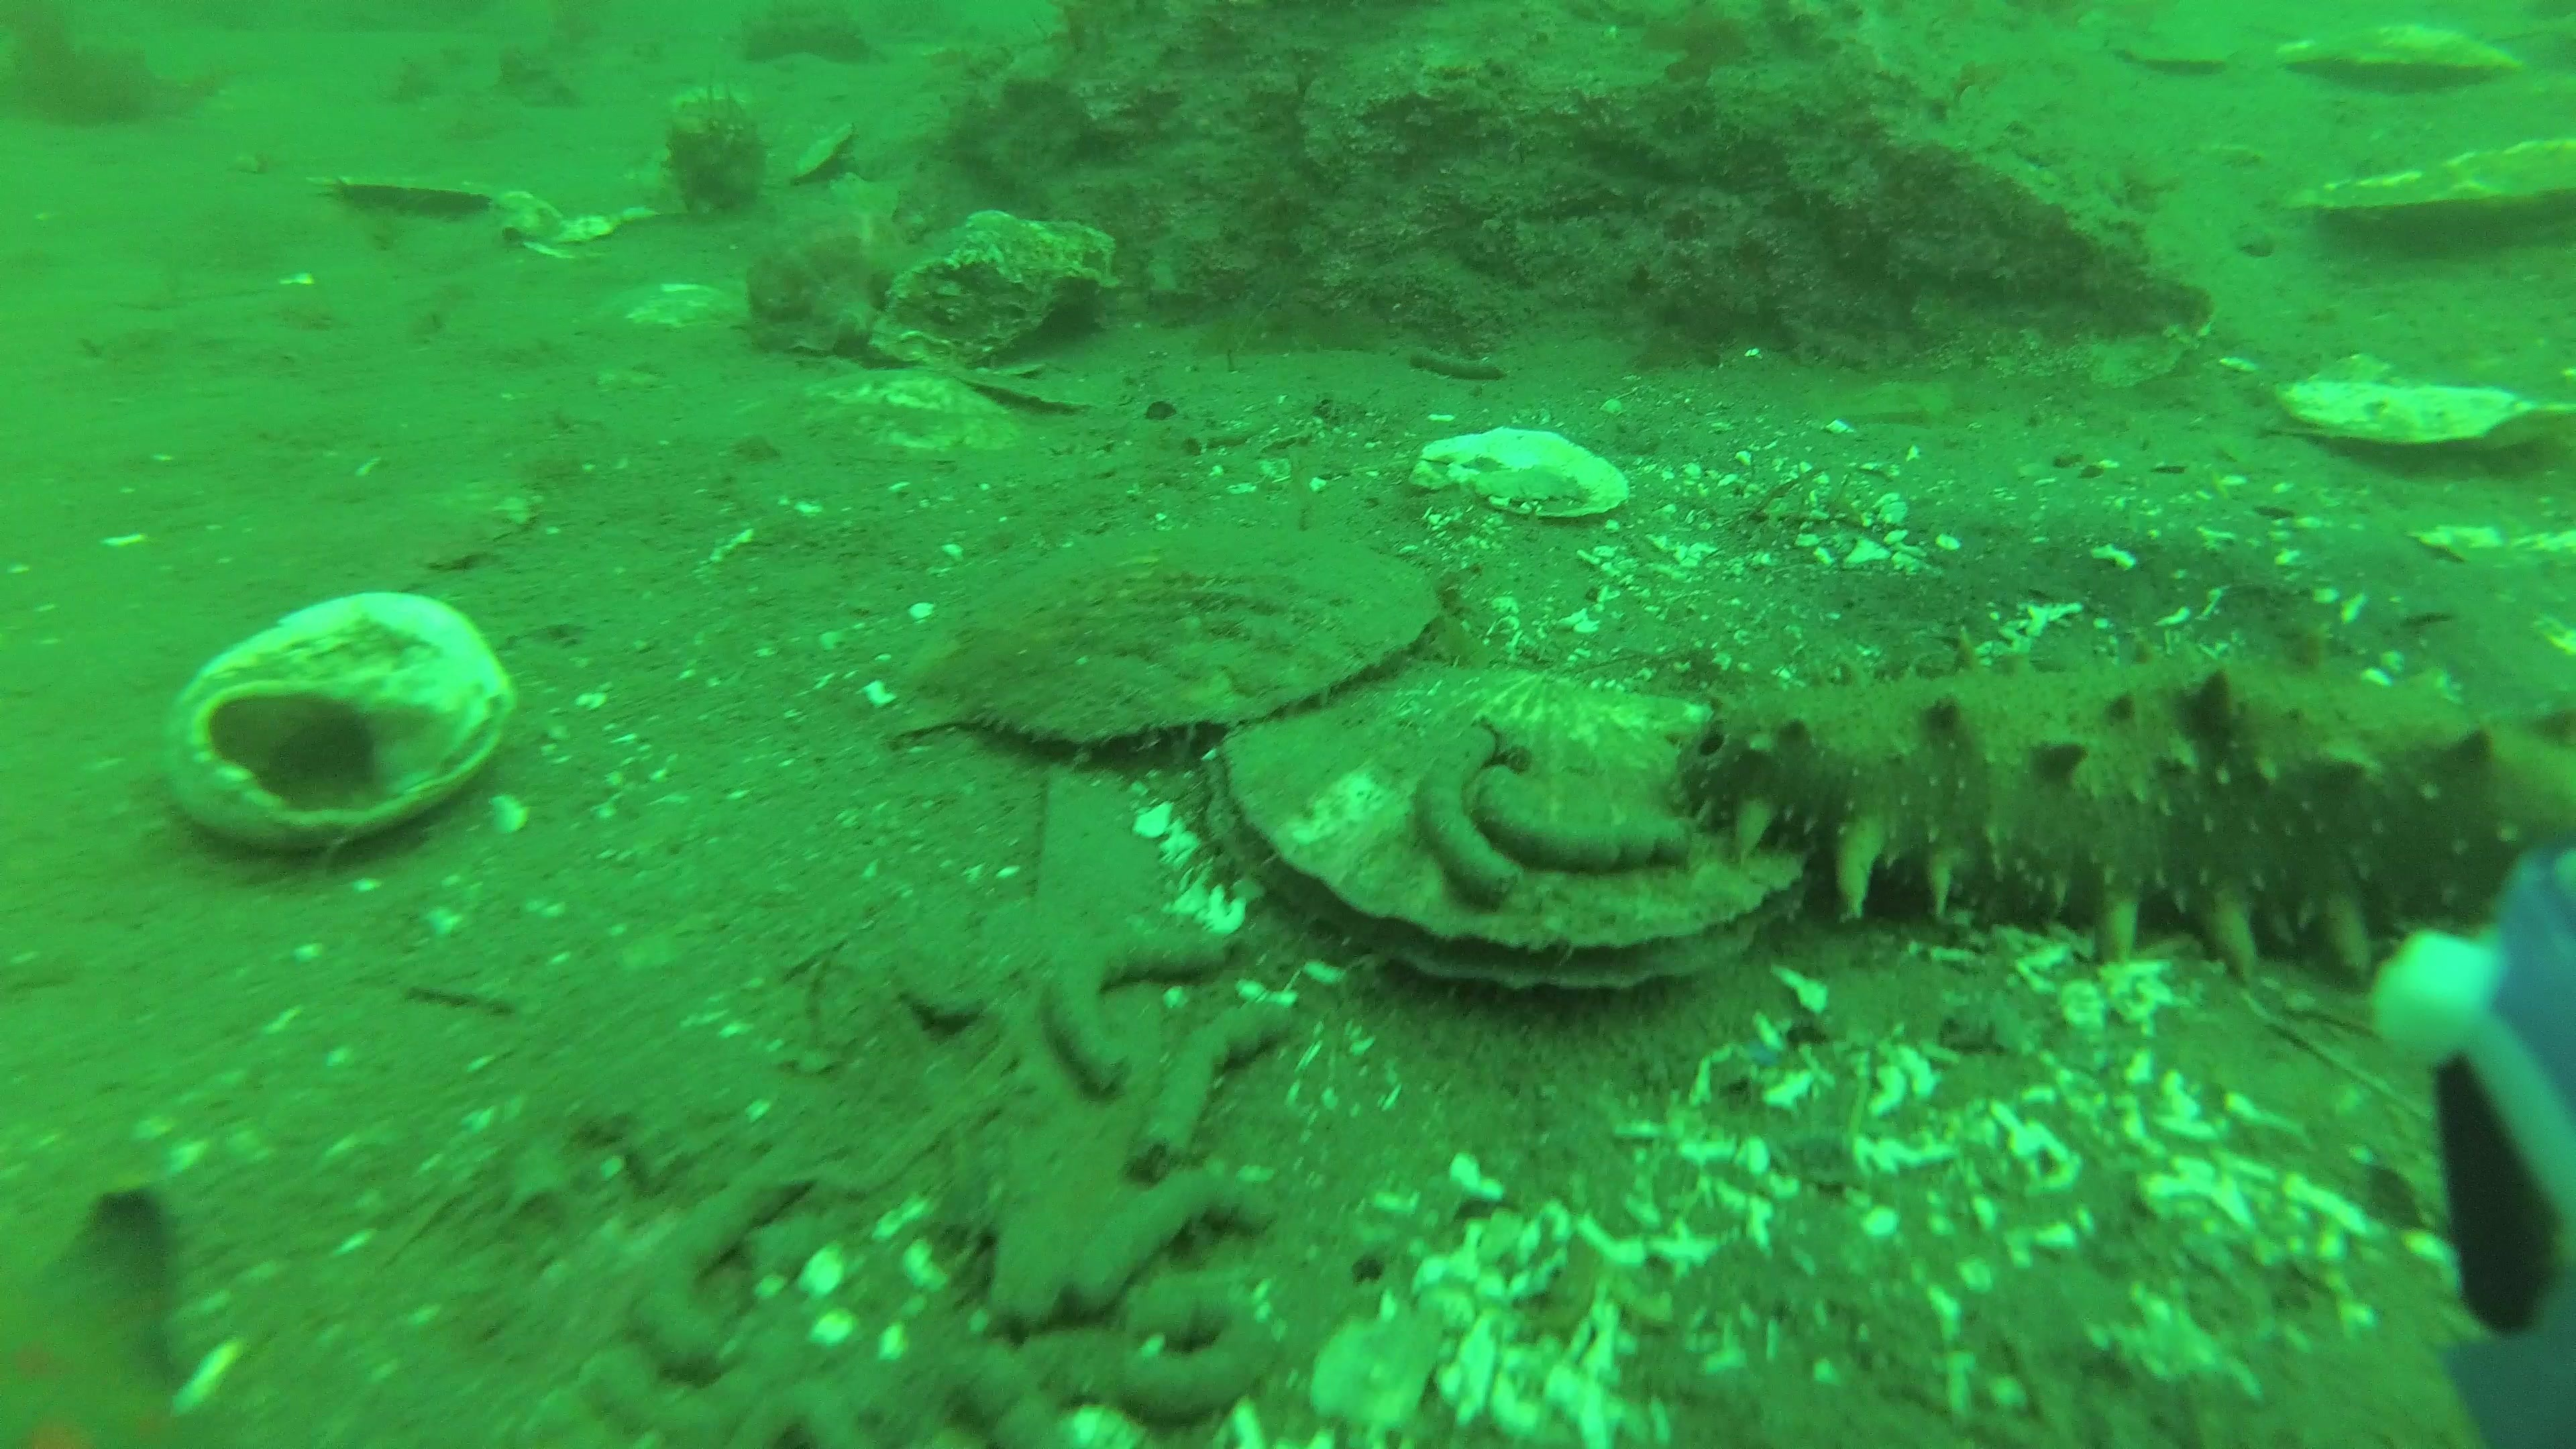holothurian: (1674, 658, 2576, 984)
scallop: (1207, 655, 1817, 994), (893, 508, 1449, 743), (2296, 129, 2576, 239), (2265, 370, 2576, 464)
